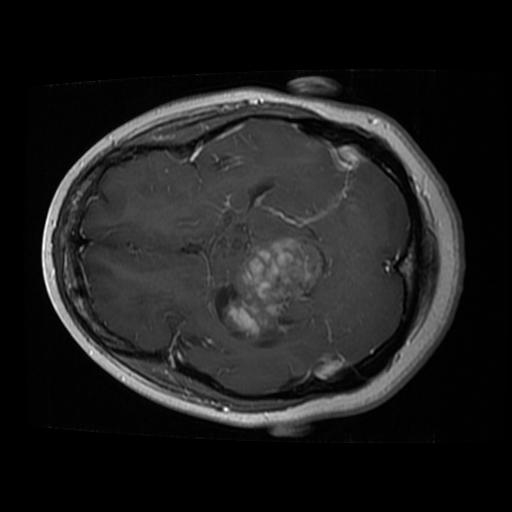glioma: (207, 234, 320, 349)
